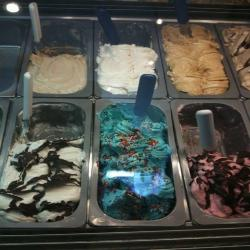icecream: (7, 98, 86, 227), (95, 101, 179, 221), (159, 21, 234, 96), (22, 37, 90, 98), (96, 39, 165, 96)
